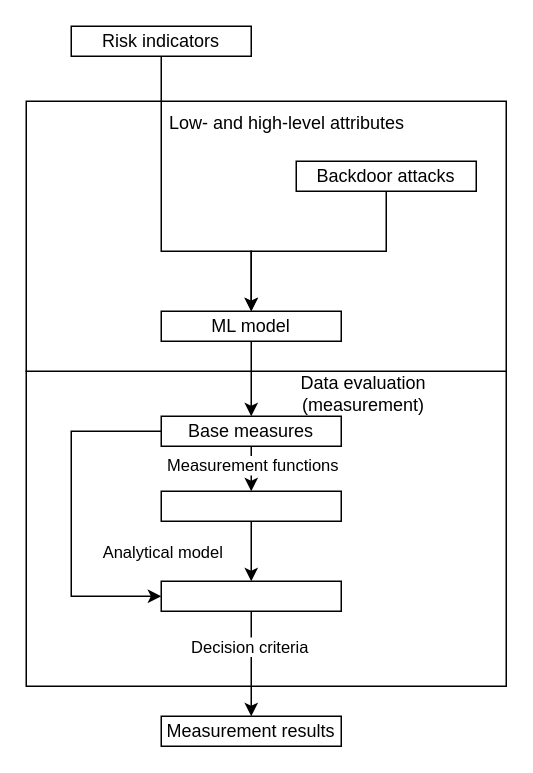
The diagram is 533 pixels wide and 773 high, and some of its shapes have lost their labels. Each missing label, with the centre of its shape:
"Derived measures" goes at point 250,505.
"Indicator" goes at point 250,595.
